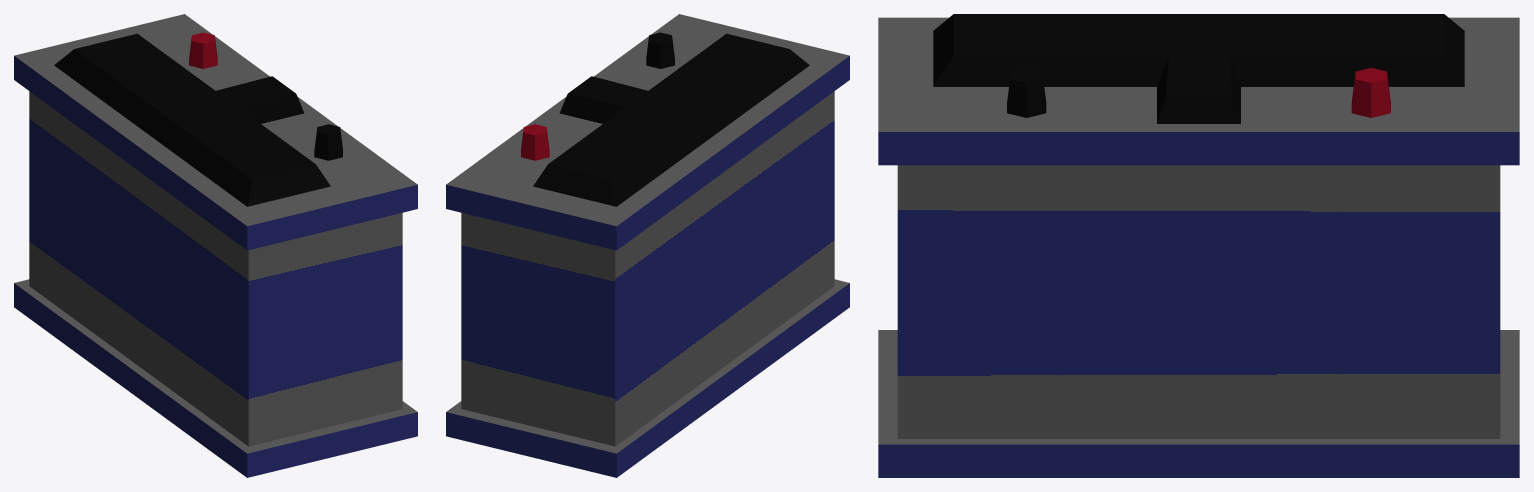
The model's file is CarBattery.fbx.
3 views of the same model, side by side, from view 1: azimuth 30°, elevation 25°; view 2: azimuth 150°, elevation 25°; view 3: azimuth 270°, elevation 25° (orthographic). The views are drawn at different scales.
Visible parts, largest first — view 1: Car_Battery; view 2: Car_Battery; view 3: Car_Battery.
Part boxes in pixels (left/top/right/bottom): Car_Battery: left=14, top=14, right=417, bottom=477; Car_Battery: left=446, top=14, right=849, bottom=477; Car_Battery: left=878, top=14, right=1519, bottom=477.
Size of the model in its own units: 9.28 by 14.33 by 21.97.
